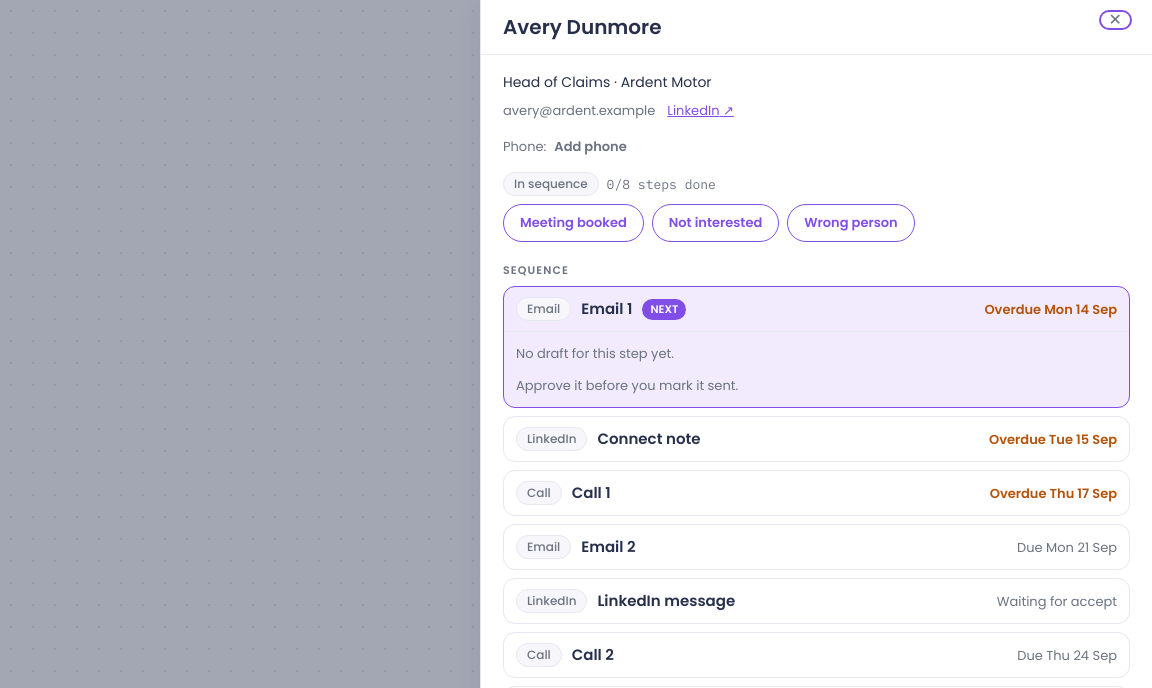
Scenario: the header › shows a refusal from the server as its line
The width and height of the screenshot is (1152, 688).
Click the button "Meeting booked".
click(573, 223)  # box [503, 204, 644, 242]
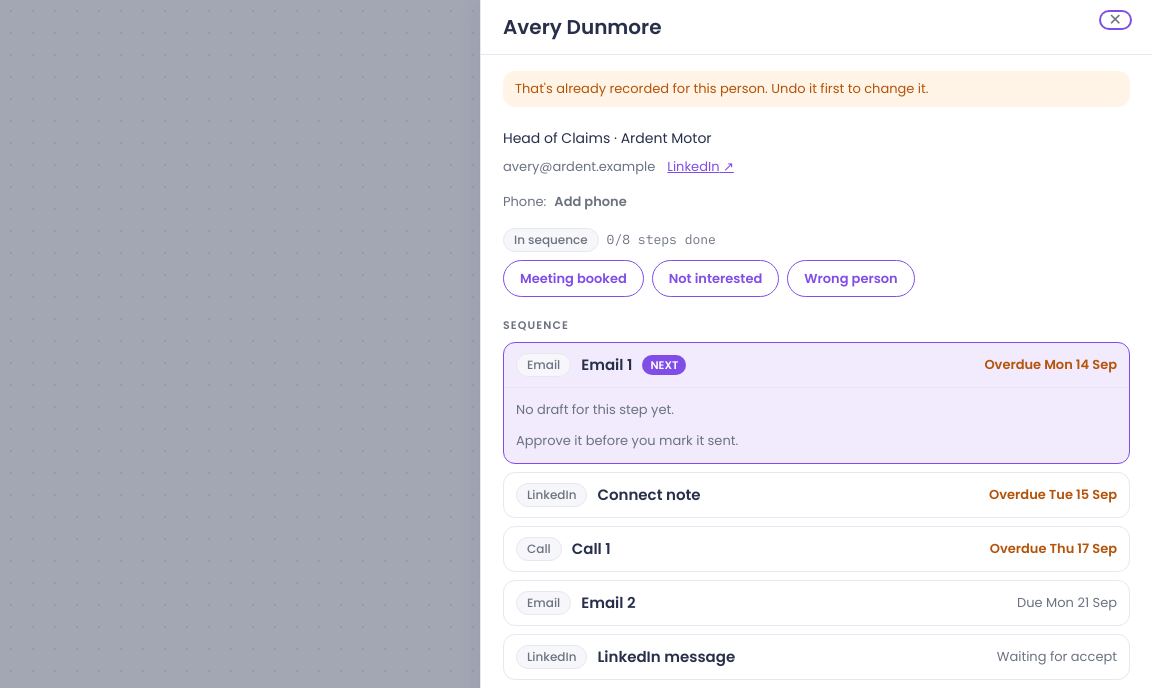
Expected: the message reads "That's already recorded for this person. Undo it first to change it.", [515, 79, 928, 98]
